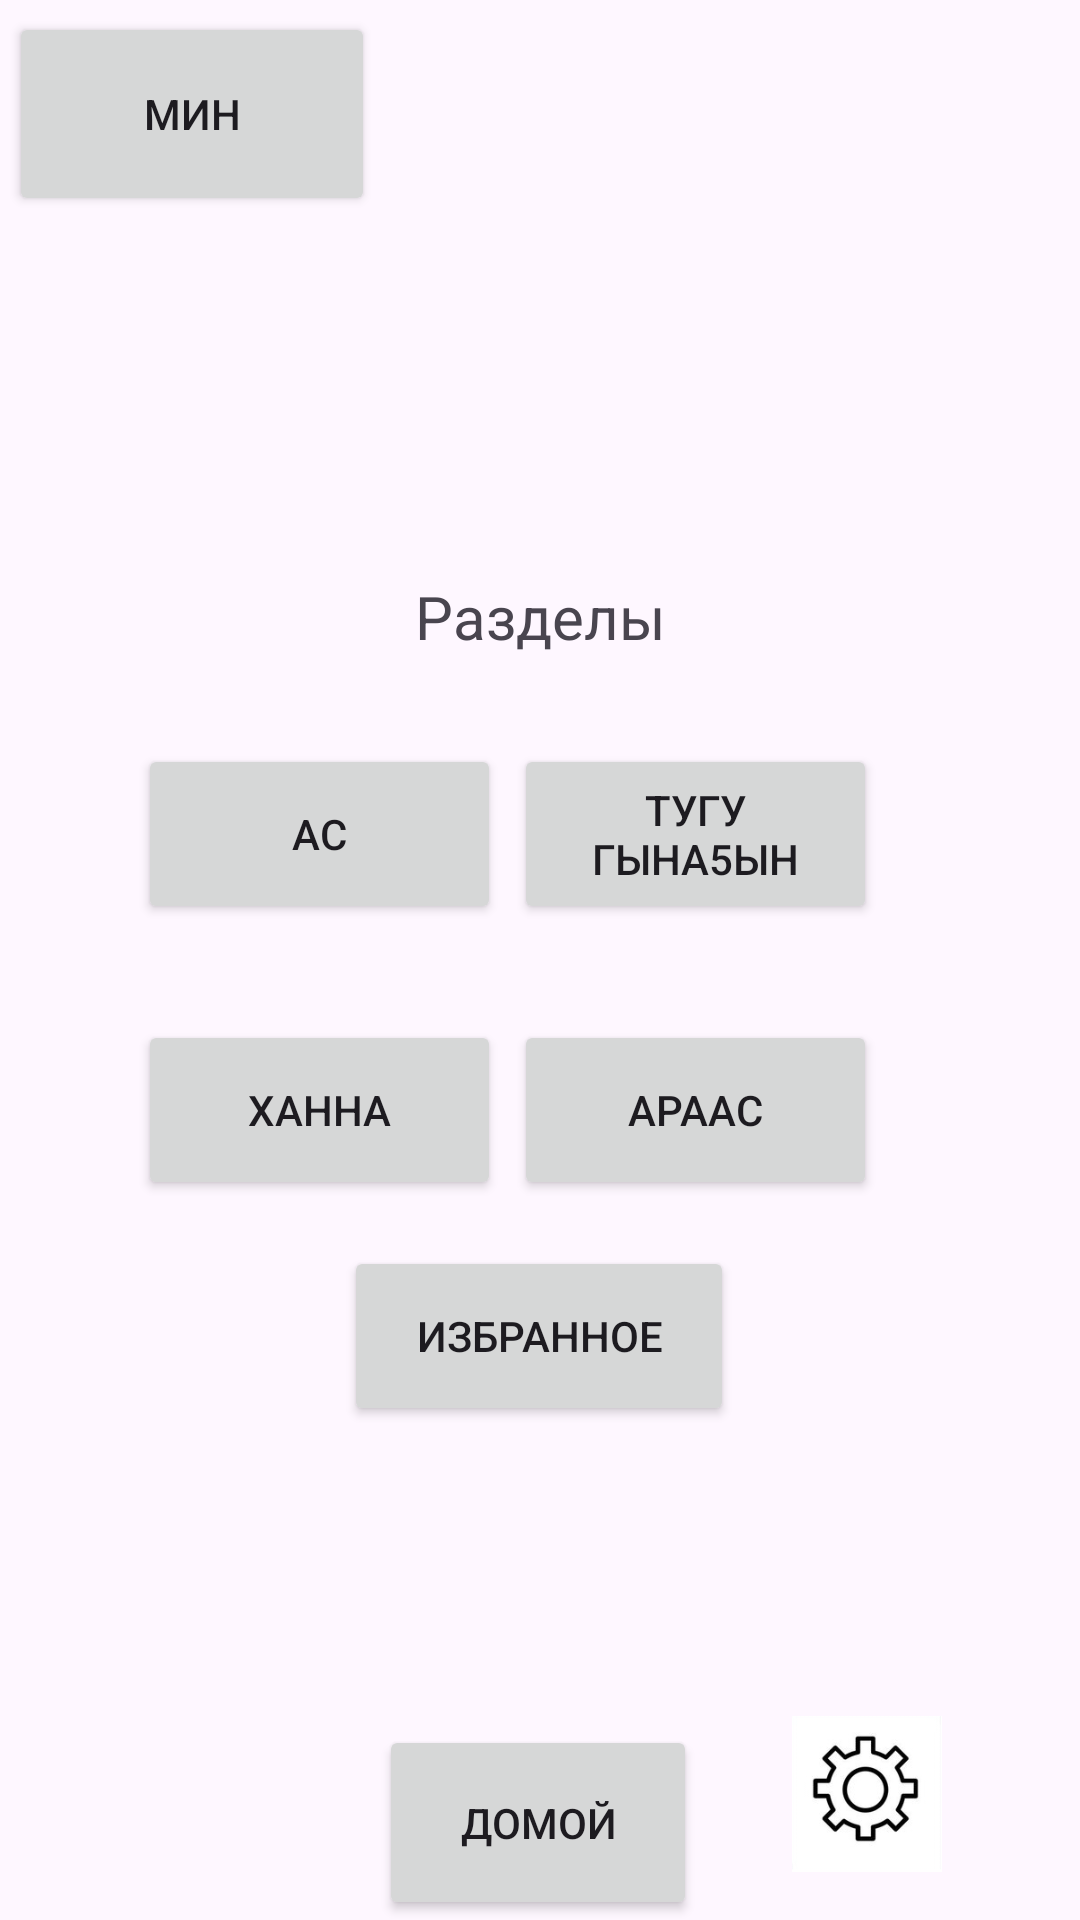

Screen size 1080*1920. Icon name, then its box in pixels as [x1, y1, x2, y2]:
settings: [812, 1736, 919, 1842]
